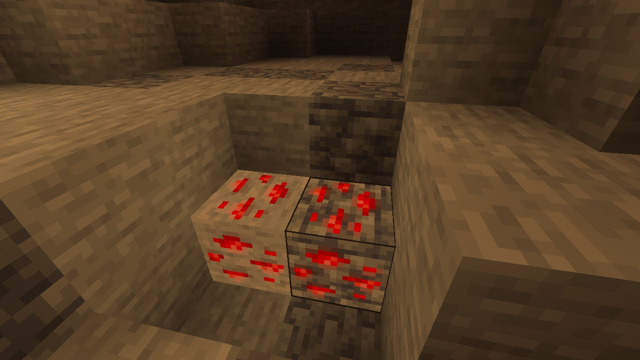redstone: (200, 162, 391, 316)
